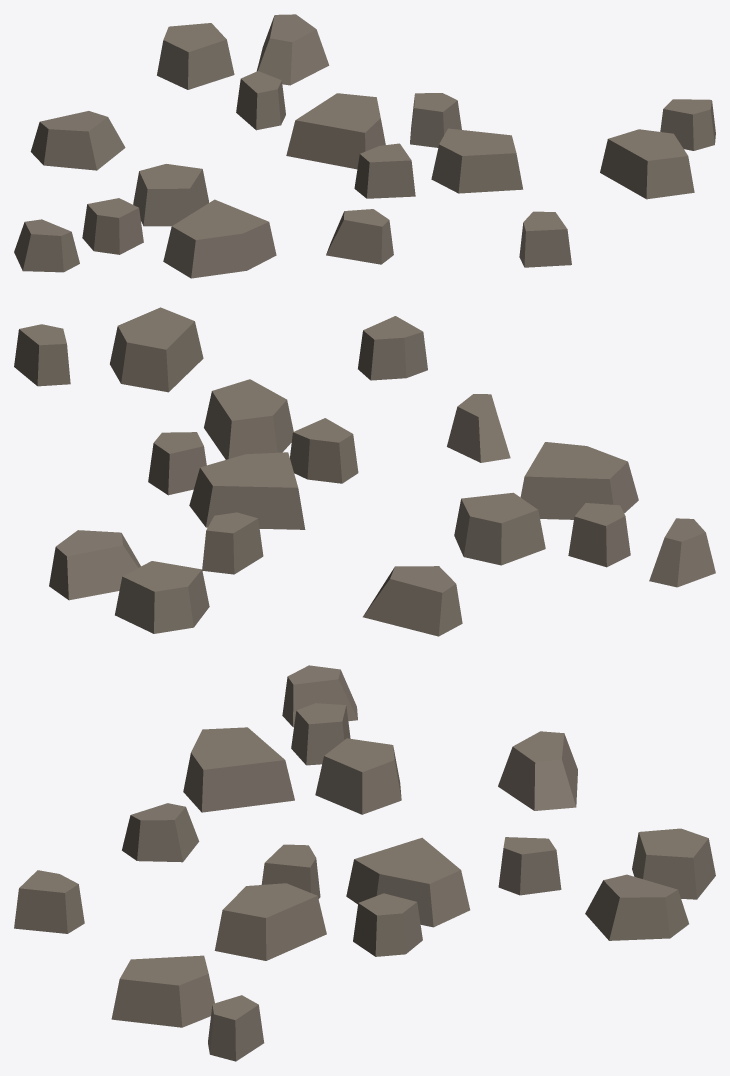
File: SM_Env_Pebbles_04.fbx
3 views of the same model, one above another, from view 1: azimuth 30°, elevation 25°; view 2: azimuth 150°, elevation 25°; view 3: azimuth 270°, elevation 25° (orthographic). The views are drawn at different scales.
Visible parts, largest first — view 1: SM_Env_Pebbles_04; view 2: SM_Env_Pebbles_04; view 3: SM_Env_Pebbles_04.
Boxes of the visible parts, x1=… form: SM_Env_Pebbles_04: x1=14, y1=14, x2=715, y2=278; SM_Env_Pebbles_04: x1=14, y1=307, x2=715, y2=636; SM_Env_Pebbles_04: x1=14, y1=665, x2=715, y2=1061.
Bounding box in the file's own units: 304 × 15.3 × 249.
